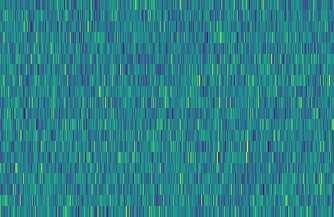signal: (212, 0, 226, 217)
